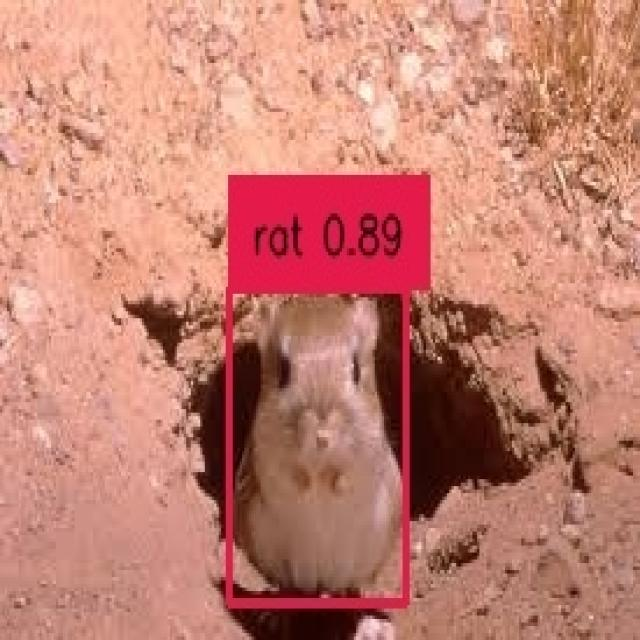rat: (225, 283, 402, 598)
